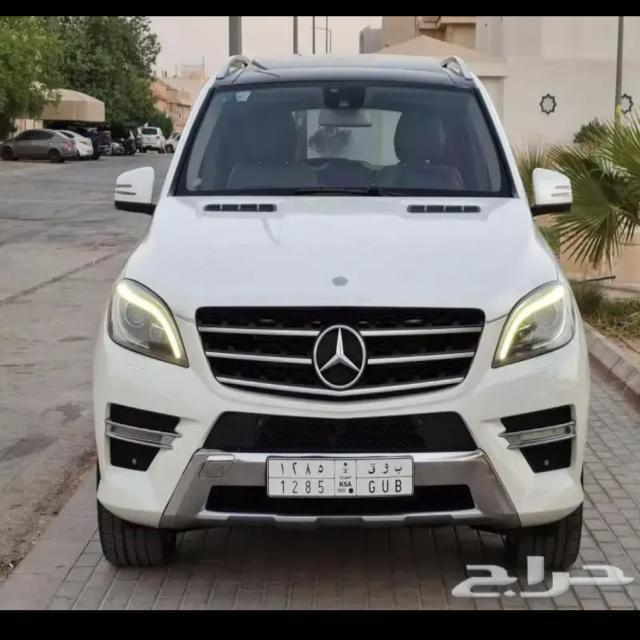license_plate: (266, 456, 416, 500)
